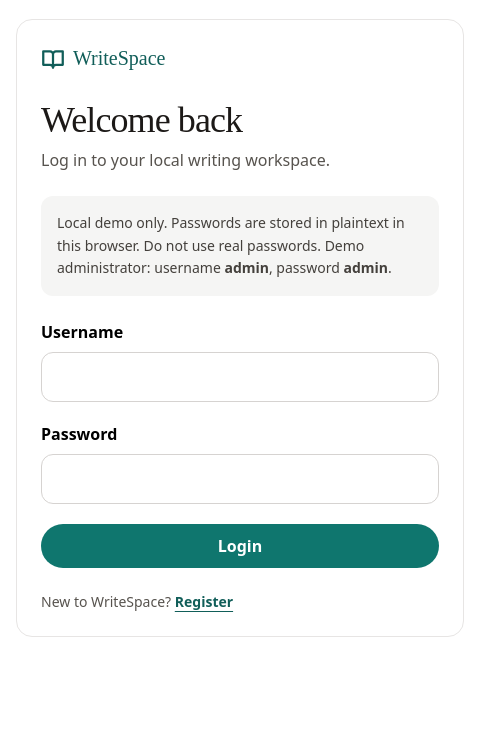
Test: identity forms and destinations › shows browser write failure on submitted /login without leaving the form
This screenshot has width=481, height=745.
Type "admin" into the field labelled "Username" at (240, 377), box [41,352,439,402]
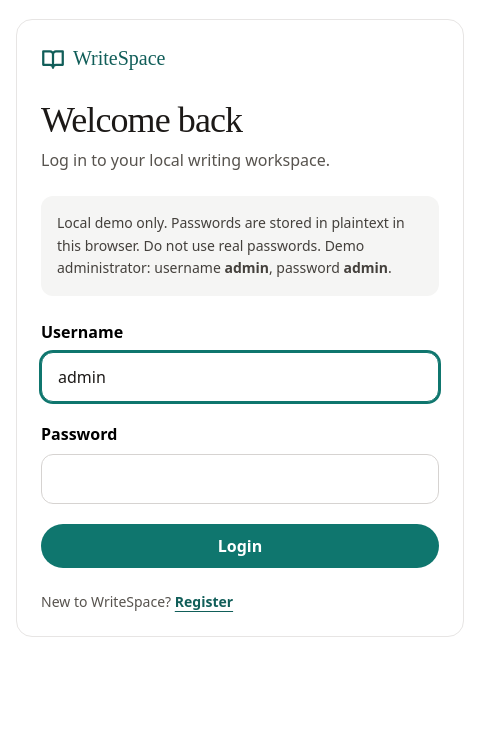
Type "admin" into the password field labelled "Password" at (240, 479), box [41,454,439,504]
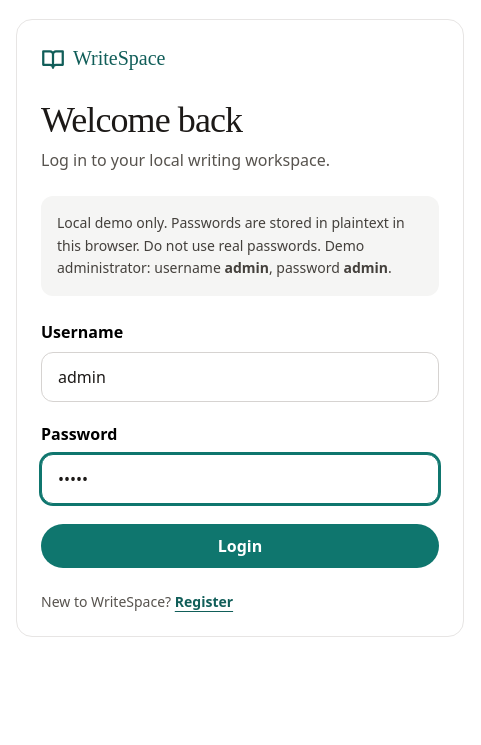
Click the button "Login" at (240, 546), box [41,524,439,568]
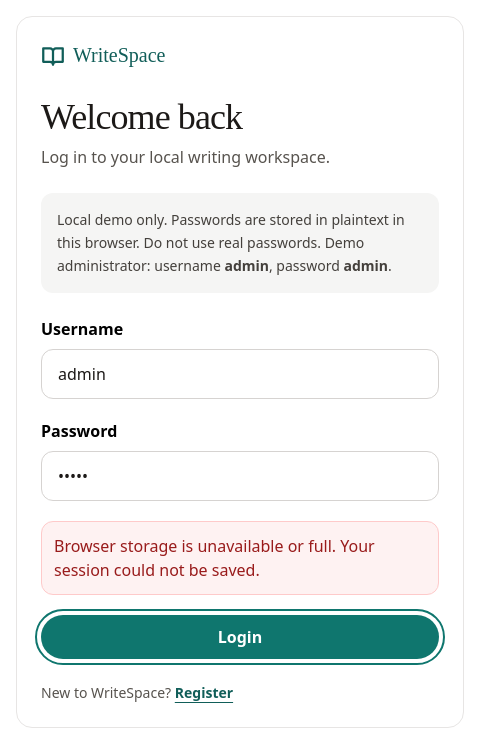
Result: the message shows "Browser storage" at [54,535,375,581]
